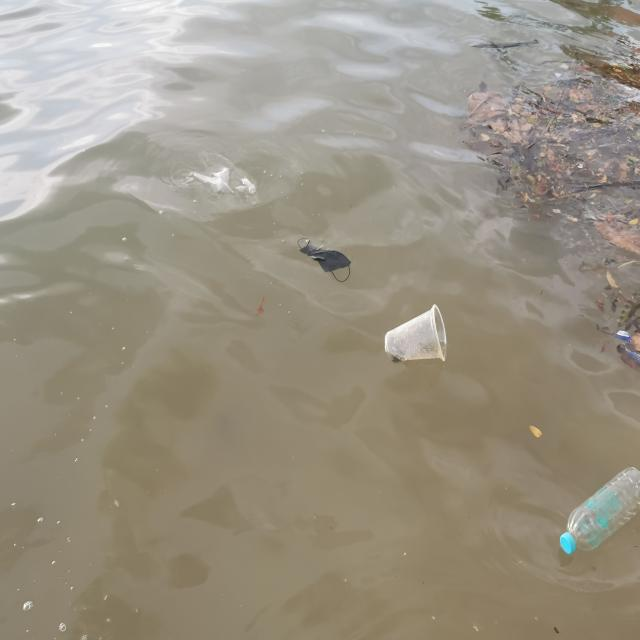plastic: (559, 461, 640, 557)
plastic bottle: (165, 147, 268, 211), (378, 303, 454, 368)
unknow: (294, 233, 353, 293)
